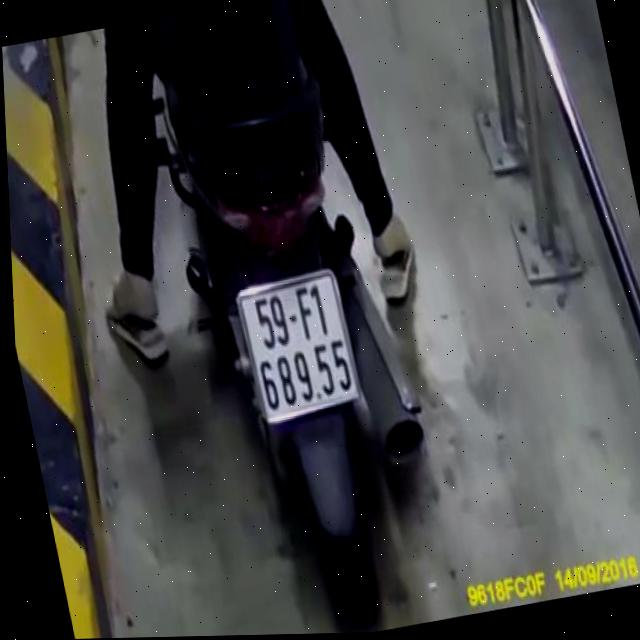motorcycle: (144, 4, 468, 637)
plate: (230, 263, 367, 428)
